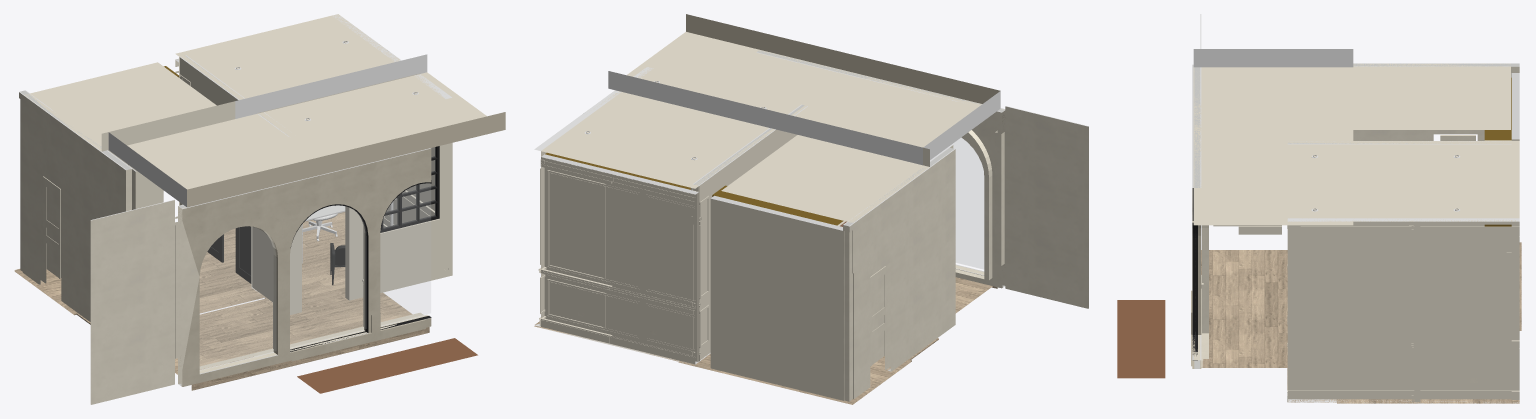
The model's file is office-east-103e1601cfc5.glb.
The picture shows the model from 3 angles, left to right: view 1: azimuth 30°, elevation 25°; view 2: azimuth 150°, elevation 25°; view 3: azimuth 270°, elevation 25°; orthographic projection. The views are drawn at different scales.
Parts seen in each view (by area): view 1: office-east-look-dbd60ee5c3733ed6, office-east-look-c9e78b9ec1bb39cd, office-east-look-d5a4a1b5d3594c04, office-east-look-6a051330000fbca1, office-east-look-2575515a05775d9e, office-east-2575515a05775d9e, office-east-look-38561c12898e4d43, office-east-look-c02a36d0521470a9, office-east-look-c374268555806af8, office-east-7dc307bfa7ee071d, office-east-look-5cbcc744e6f960f3, office-east-dbd60ee5c3733ed6 (+15 smaller); view 2: office-east-look-dbd60ee5c3733ed6, office-east-look-19647d6da46c2b80, office-east-19647d6da46c2b80, office-east-look-6a051330000fbca1, office-east-look-d5a4a1b5d3594c04, office-east-2575515a05775d9e, office-east-look-2575515a05775d9e, office-east-72f8f5982ac3dc36, office-east-look-38561c12898e4d43, office-east-look-c9e78b9ec1bb39cd, office-east-dbd60ee5c3733ed6, office-east-look-1109284a531c9f8c (+16 smaller); view 3: office-east-6a1144f4e43410bb, office-east-look-dbd60ee5c3733ed6, office-east-2575515a05775d9e, office-east-look-2575515a05775d9e, office-east-look-c374268555806af8, office-east-dbd60ee5c3733ed6, office-east-look-aee2d046b0172b1e, office-east-2c29ddcb8551cb02, office-east-7dc307bfa7ee071d, office-east-look-c9e78b9ec1bb39cd, office-east-e54d813e60c9e7c4, office-east-look-6a051330000fbca1 (+13 smaller).
Boxes of the visible parts, bbox=[...] form: office-east-look-dbd60ee5c3733ed6: bbox=[108, 54, 505, 207]; office-east-look-c9e78b9ec1bb39cd: bbox=[178, 148, 431, 386]; office-east-look-d5a4a1b5d3594c04: bbox=[90, 199, 174, 404]; office-east-look-6a051330000fbca1: bbox=[19, 90, 136, 321]; office-east-look-2575515a05775d9e: bbox=[24, 62, 235, 151]; office-east-2575515a05775d9e: bbox=[175, 14, 420, 113]; office-east-look-38561c12898e4d43: bbox=[200, 226, 276, 369]; office-east-look-c02a36d0521470a9: bbox=[290, 205, 366, 347]; office-east-look-c374268555806af8: bbox=[175, 292, 429, 390]; office-east-7dc307bfa7ee071d: bbox=[293, 97, 445, 313]; office-east-look-5cbcc744e6f960f3: bbox=[380, 183, 430, 324]; office-east-dbd60ee5c3733ed6: bbox=[264, 74, 445, 137]; office-east-look-dbd60ee5c3733ed6: bbox=[608, 14, 1000, 165]; office-east-look-19647d6da46c2b80: bbox=[710, 195, 842, 400]; office-east-19647d6da46c2b80: bbox=[541, 154, 698, 364]; office-east-look-6a051330000fbca1: bbox=[843, 144, 955, 401]; office-east-look-d5a4a1b5d3594c04: bbox=[1005, 106, 1088, 308]; office-east-2575515a05775d9e: bbox=[541, 91, 774, 188]; office-east-look-2575515a05775d9e: bbox=[721, 135, 929, 222]; office-east-72f8f5982ac3dc36: bbox=[692, 104, 807, 361]; office-east-look-38561c12898e4d43: bbox=[930, 138, 983, 269]; office-east-look-c9e78b9ec1bb39cd: bbox=[756, 50, 1005, 288]; office-east-dbd60ee5c3733ed6: bbox=[615, 67, 793, 129]; office-east-look-1109284a531c9f8c: bbox=[955, 130, 992, 280]; office-east-6a1144f4e43410bb: bbox=[1287, 218, 1519, 402]; office-east-look-dbd60ee5c3733ed6: bbox=[1193, 49, 1353, 225]; office-east-2575515a05775d9e: bbox=[1353, 141, 1519, 221]; office-east-look-2575515a05775d9e: bbox=[1353, 63, 1510, 129]; office-east-look-c374268555806af8: bbox=[1201, 250, 1287, 367]; office-east-dbd60ee5c3733ed6: bbox=[1287, 141, 1353, 221]; office-east-look-aee2d046b0172b1e: bbox=[1117, 300, 1165, 378]; office-east-2c29ddcb8551cb02: bbox=[1287, 390, 1519, 399]; office-east-7dc307bfa7ee071d: bbox=[1287, 144, 1295, 390]; office-east-look-c9e78b9ec1bb39cd: bbox=[1192, 64, 1201, 368]; office-east-e54d813e60c9e7c4: bbox=[1300, 226, 1519, 234]; office-east-look-6a051330000fbca1: bbox=[1353, 63, 1519, 140].
Size of the model in its own units: 7.25 by 3.4 by 6.07.
22 materials, 4 textured.
